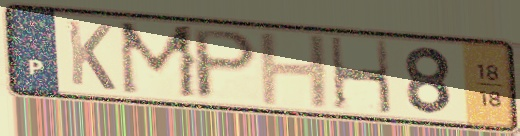8: (402, 44, 457, 117)
H: (256, 31, 334, 110), (326, 35, 396, 117)
K: (64, 17, 119, 94)
M: (116, 19, 202, 102)
P: (191, 26, 262, 102)
